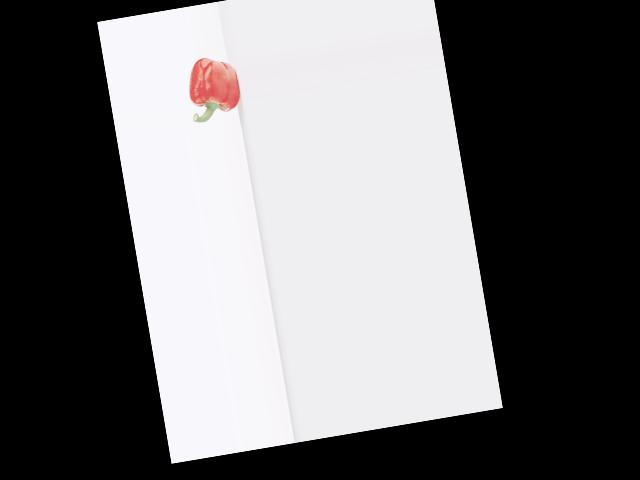bell_pepper: (180, 49, 247, 130)
